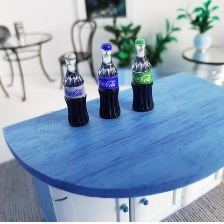bottle: (59, 48, 93, 129), (128, 34, 160, 116), (93, 41, 124, 120)
